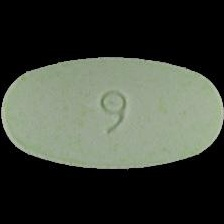42847-106: (0, 0, 224, 224)
